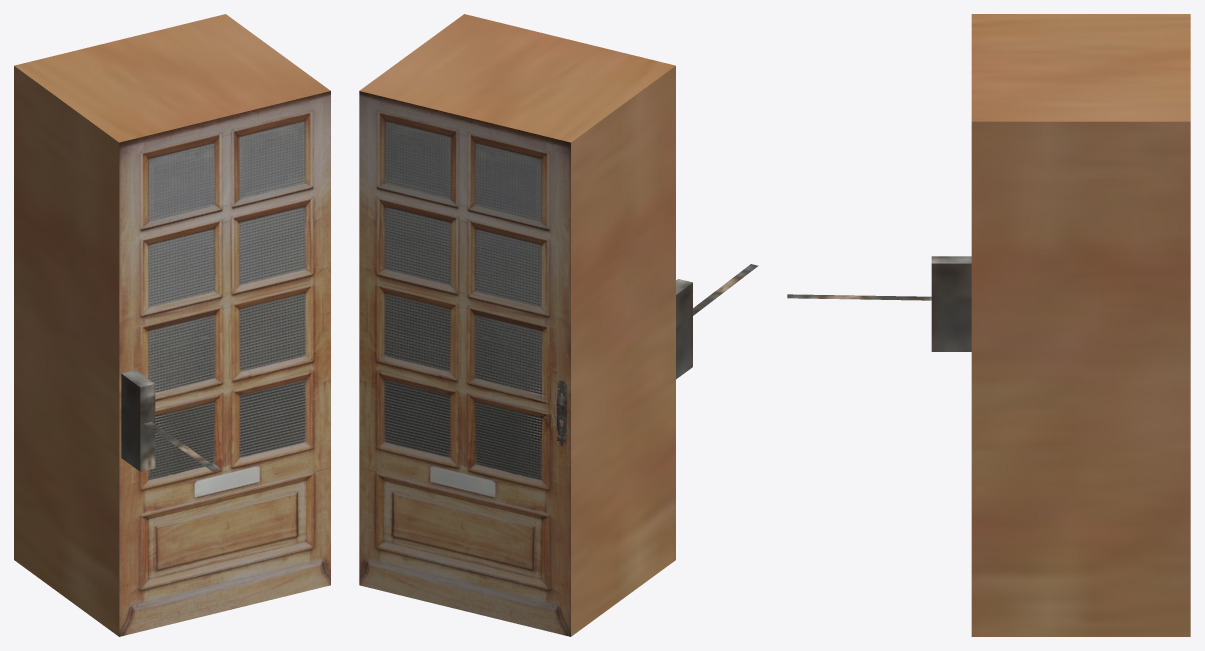
File: House_Demo_039-col.glb
The picture shows the model from 3 angles, left to right: view 1: azimuth 30°, elevation 25°; view 2: azimuth 150°, elevation 25°; view 3: azimuth 270°, elevation 25°; orthographic projection. The views are drawn at different scales.
Visible parts, largest first — view 1: House_Demo_039-col; view 2: House_Demo_039-col; view 3: House_Demo_039-col.
Part boxes in pixels (left/top/right/bottom): House_Demo_039-col: left=14, top=14, right=330, bottom=636; House_Demo_039-col: left=359, top=14, right=758, bottom=636; House_Demo_039-col: left=787, top=14, right=1190, bottom=636.
Bounding box in the file's own units: 2 × 4.46 × 3.17.
Materials: 1 (1 with a texture image).
